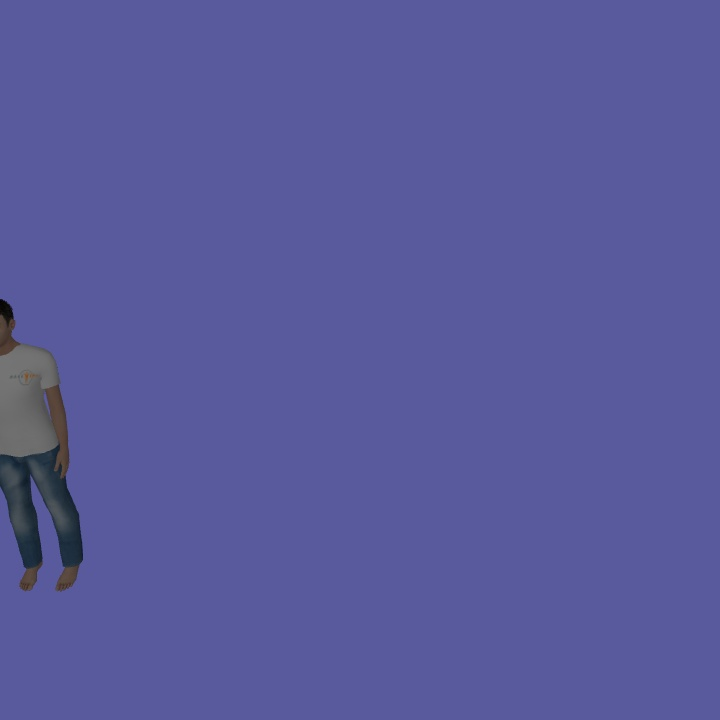victim: (1, 292, 88, 597)
